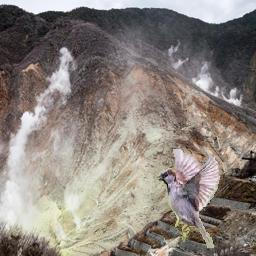Sparrow: (156, 150, 220, 249)
